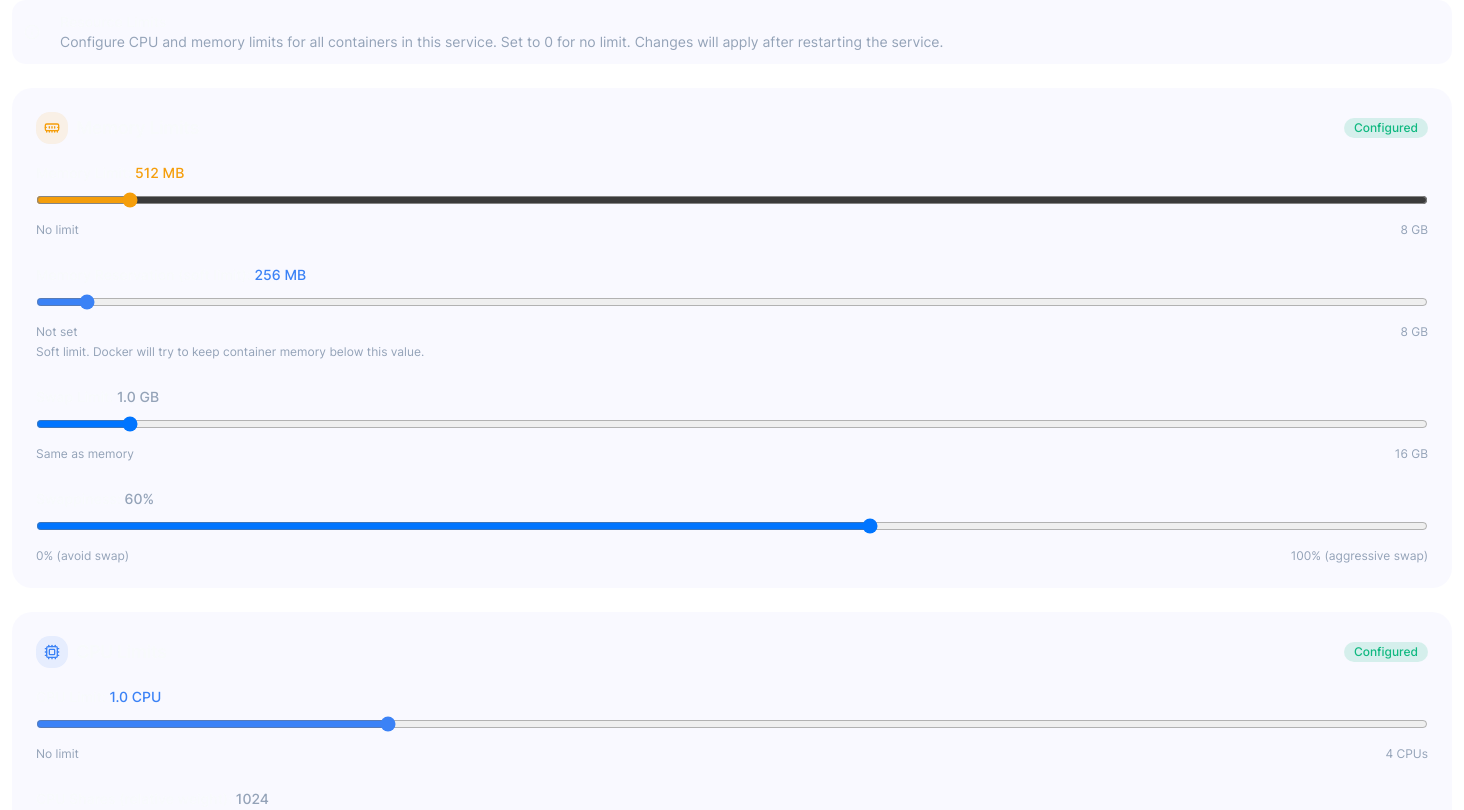
Test case: Service Scaling Page › allows changing memory limit
Set the slider below "Memory Limit:" to "1024": coordinates (216, 200) x1=36 y1=192 x2=1428 y2=208
(page scrolled)
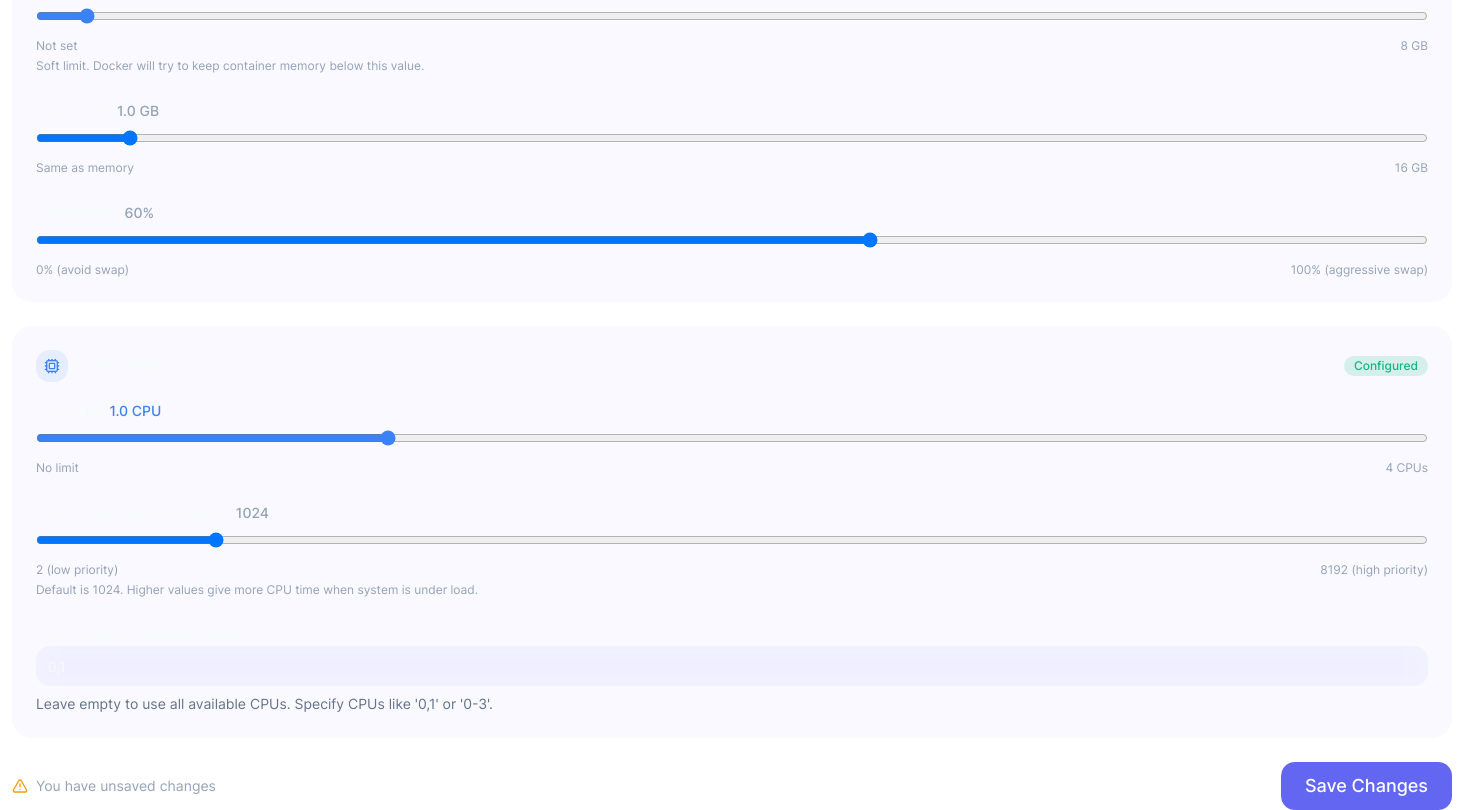
Expected: the text "You have unsaved changes" is shown, x1=36 y1=776 x2=216 y2=796
